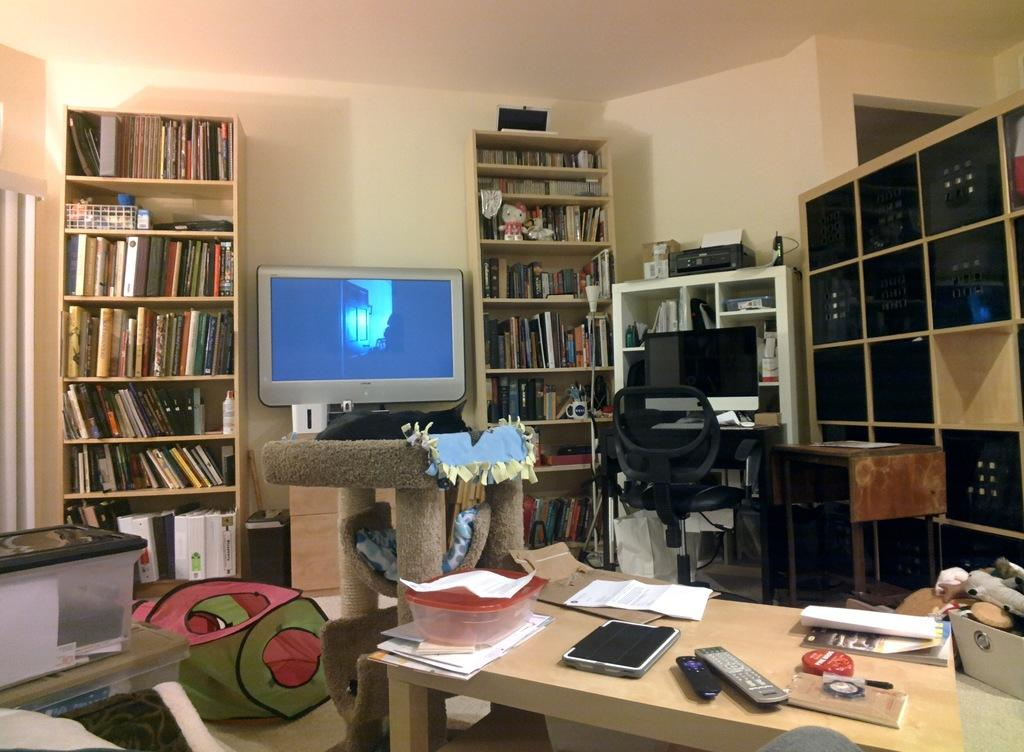Book: (58, 506, 235, 590), (62, 304, 237, 379), (66, 108, 232, 183), (62, 232, 234, 298), (75, 435, 231, 491), (61, 386, 209, 445), (482, 309, 618, 371), (482, 241, 614, 301), (801, 617, 953, 666), (785, 670, 913, 726), (482, 197, 613, 247), (521, 484, 607, 551), (366, 649, 506, 683), (473, 140, 605, 174), (476, 172, 614, 201), (483, 379, 571, 420), (522, 425, 598, 471), (641, 292, 687, 347), (412, 635, 476, 660)
Computer-monitor: (244, 251, 458, 427), (643, 326, 756, 411)
